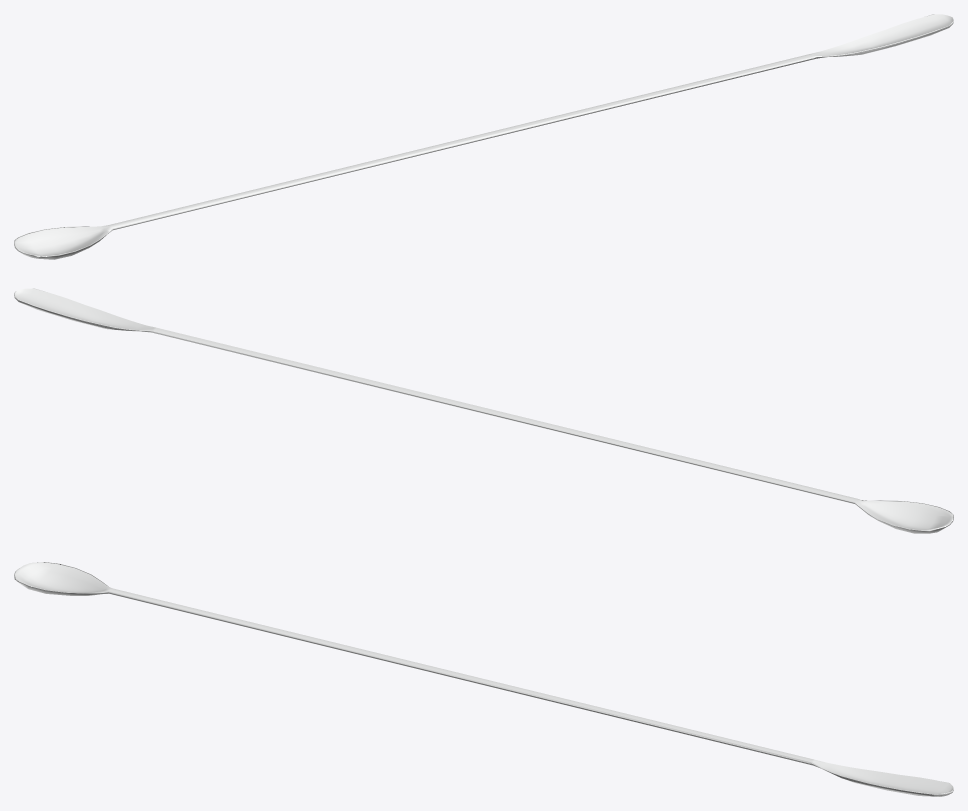
The model's file is Spoon.fbx.
3 views of the same model, one above another, from view 1: azimuth 30°, elevation 25°; view 2: azimuth 150°, elevation 25°; view 3: azimuth 330°, elevation 25° (orthographic).
Parts seen in each view (by area): view 1: Spoon1; view 2: Spoon1; view 3: Spoon1.
Part boxes in pixels (left/top/right/bottom): Spoon1: left=14, top=14, right=953, bottom=259; Spoon1: left=14, top=288, right=953, bottom=533; Spoon1: left=14, top=562, right=953, bottom=796.
Size of the model in its own units: 0.45 by 0.00774 by 0.0258.
Materials: 1 (1 with a texture image).
